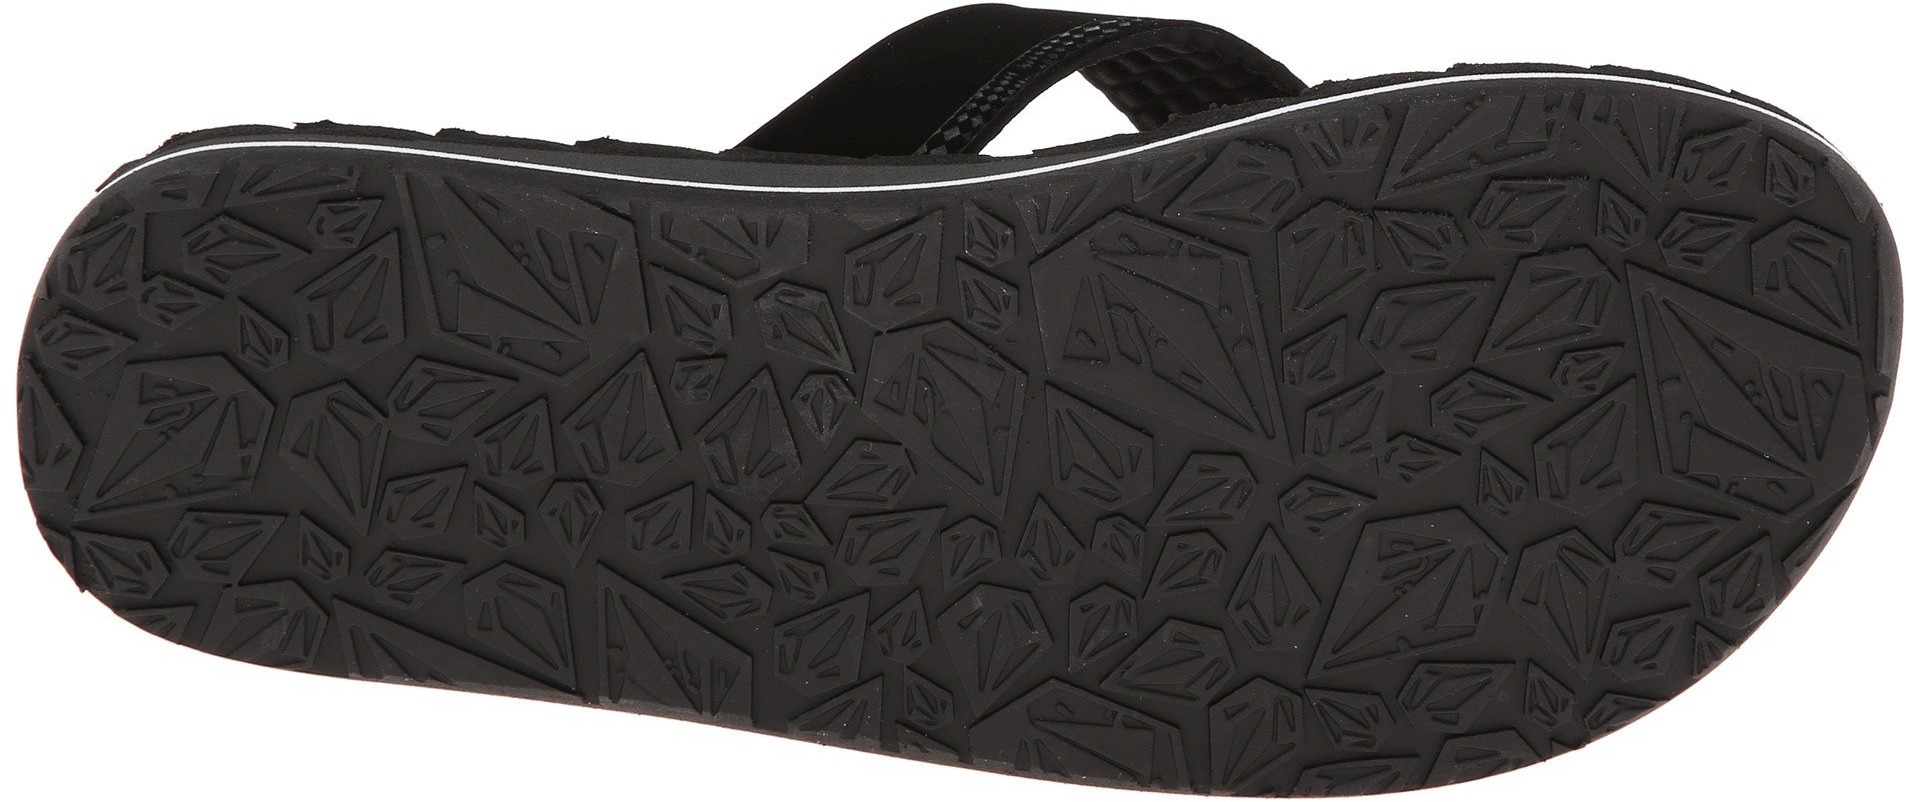other: (655, 204, 1194, 708), (1216, 159, 1714, 642), (159, 192, 622, 643)
